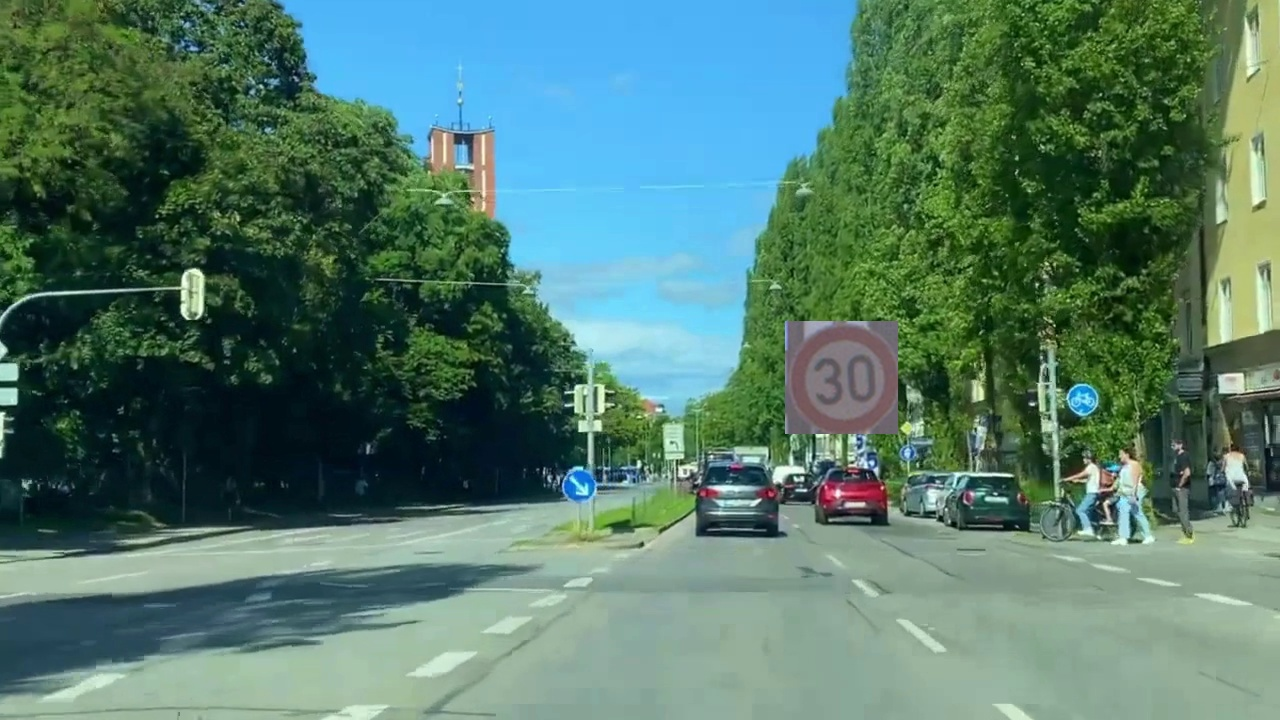Speed 30: (785, 321, 898, 434)
